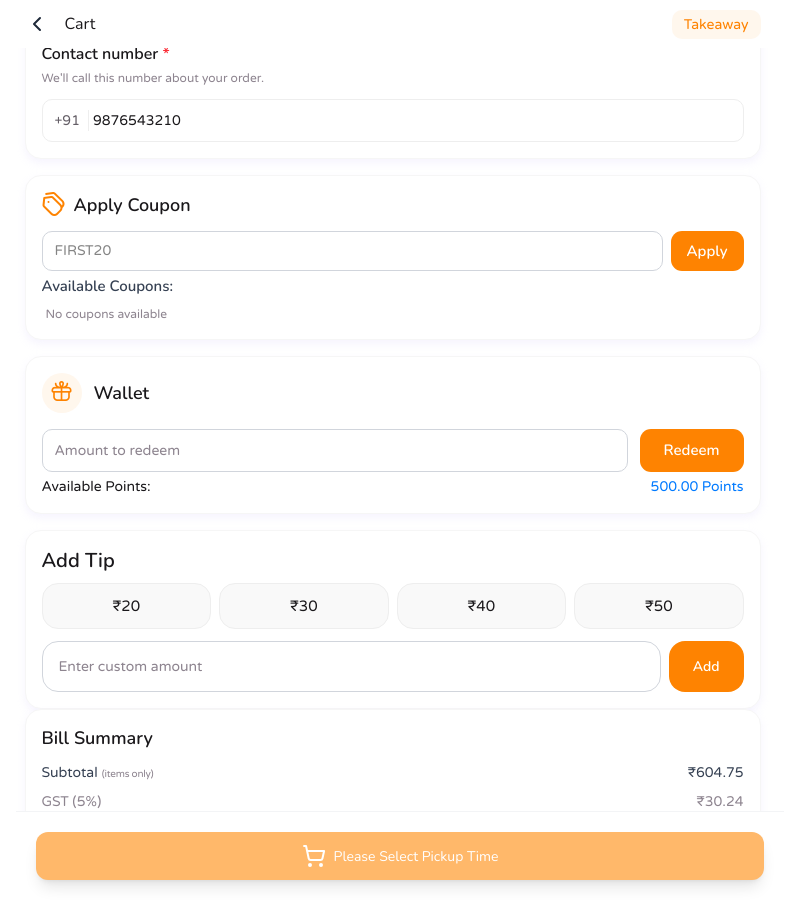
Test: Cart — takeaway: wallet points and hand-off › redeeming 501 is refused (only have ₹500.00 wallet balance)
(page scrolled)
Expected: the text "GST (5%)" is shown, x1=42 y1=791 x2=101 y2=812
Expected: the text "500.00 Points" is shown, x1=651 y1=476 x2=744 y2=496
Step 1. Type "501" into the number field named "Wallet points to redeem" → (334, 450), box x1=42 y1=428 x2=628 y2=472
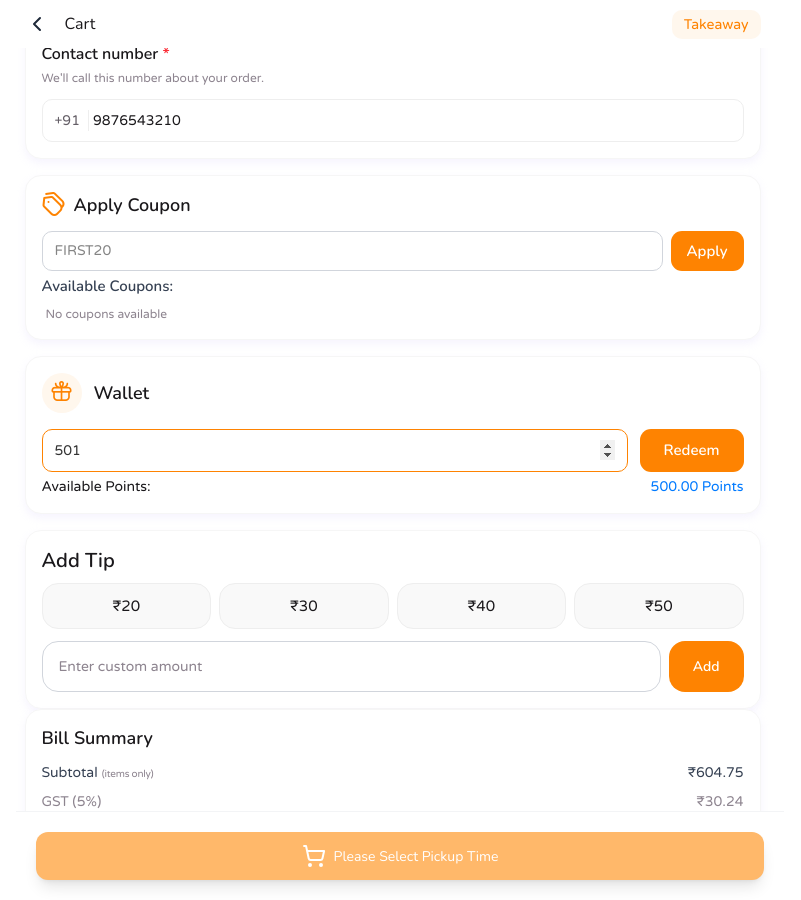
Step 2. Click the button "Redeem" → (692, 450), box x1=640 y1=428 x2=744 y2=472
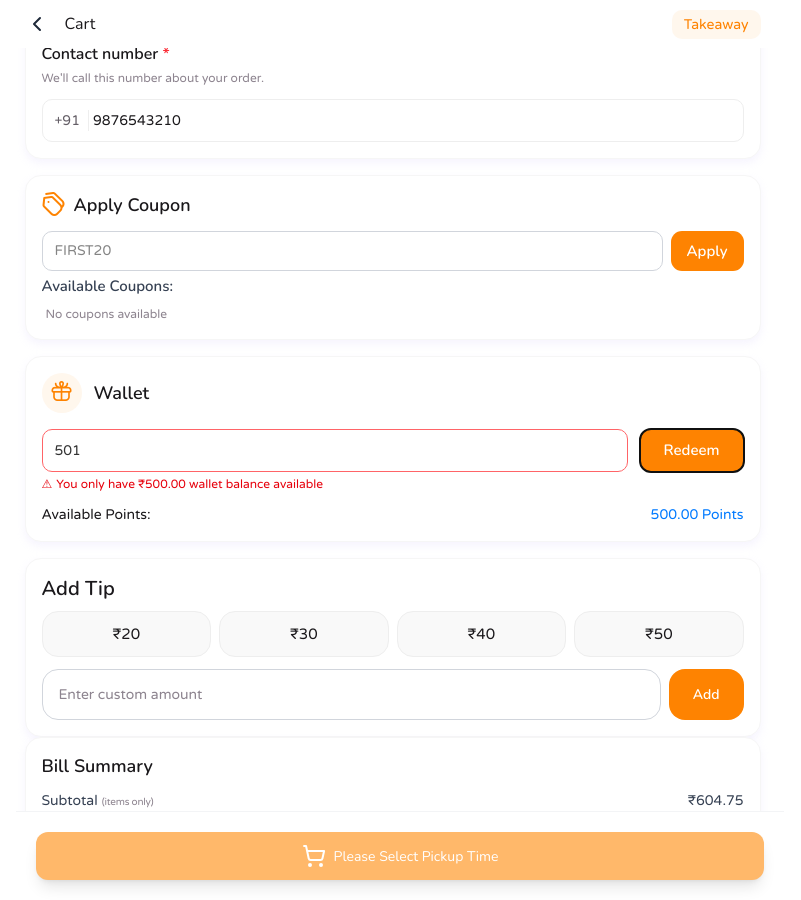
Expected: the message shows "only have ₹500.00 wallet balance", x1=56 y1=476 x2=323 y2=490
